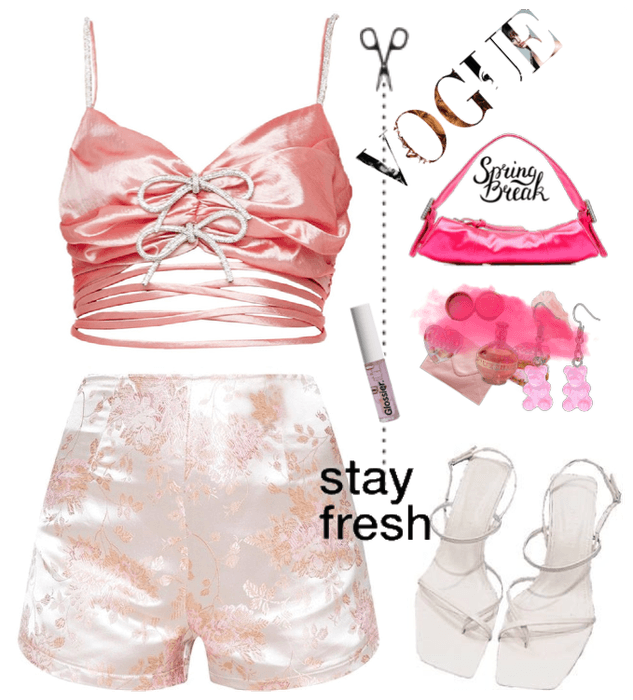аксесуары: (517, 303, 598, 418)
майка: (65, 12, 347, 359)
сумка: (412, 137, 598, 269)
туфли: (414, 450, 613, 685)
шорты: (22, 372, 378, 688)
